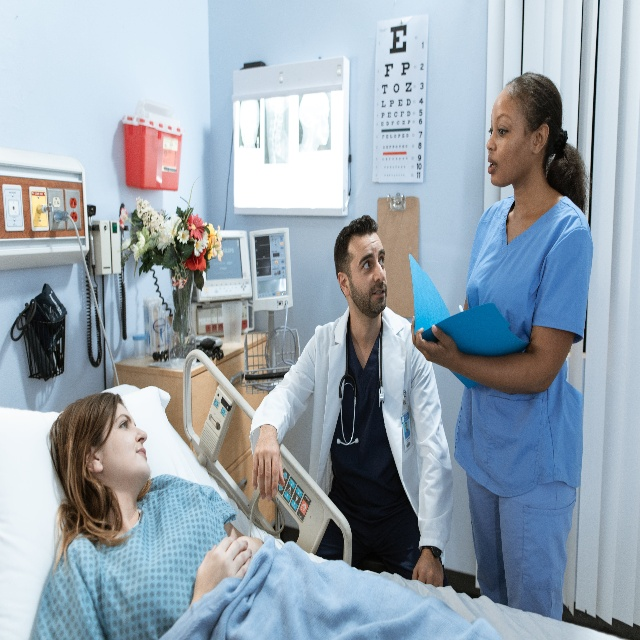Sin_guantes: (190, 530, 253, 600), (411, 316, 457, 372), (250, 430, 285, 502), (411, 546, 444, 590), (237, 533, 264, 561)
